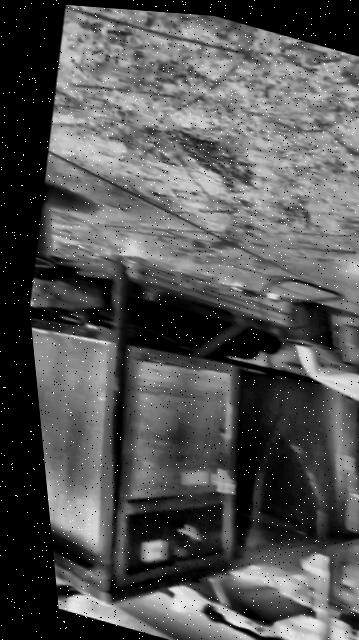pot: (25, 187, 73, 276)
